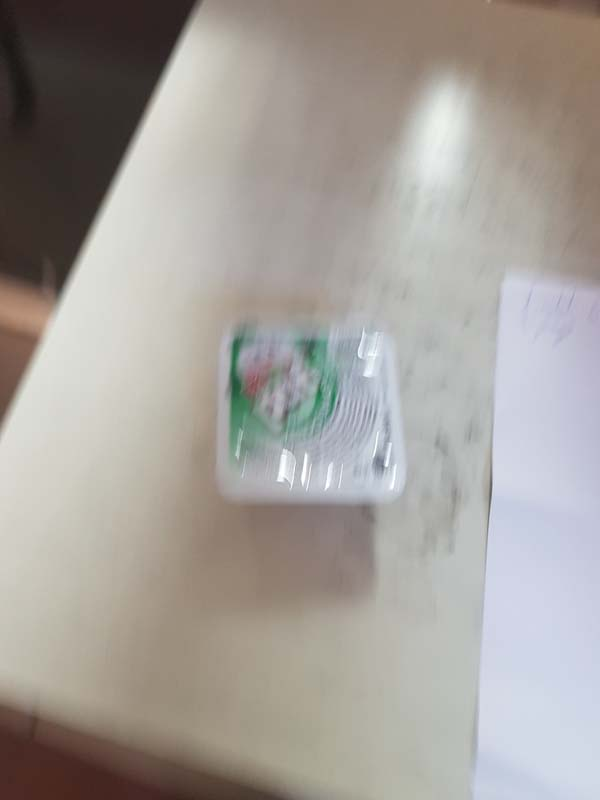etipuf: (219, 325, 405, 505)
